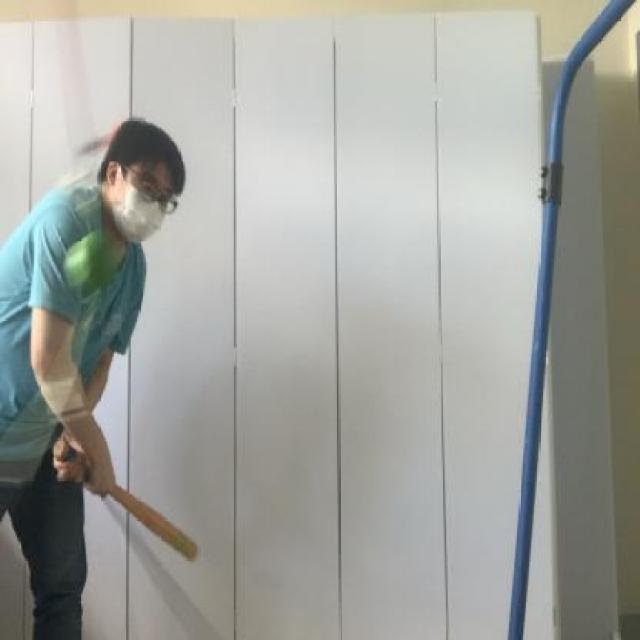baseball: (60, 225, 114, 300)
